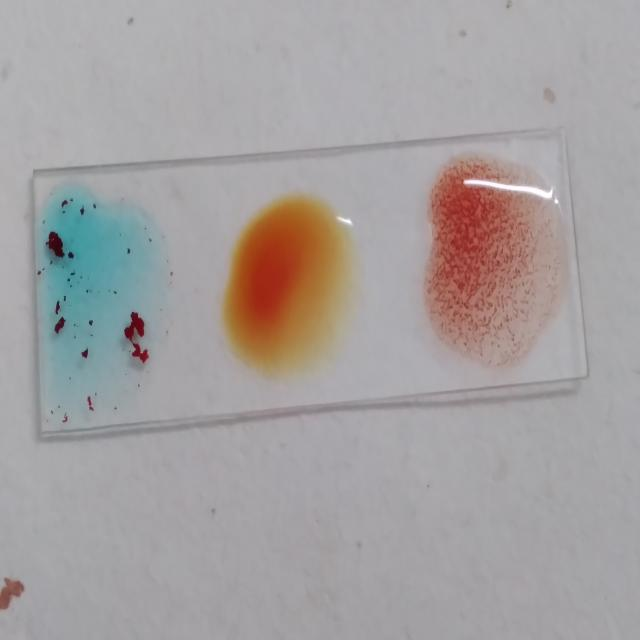A: (38, 197, 160, 410)
D: (430, 159, 562, 368)
